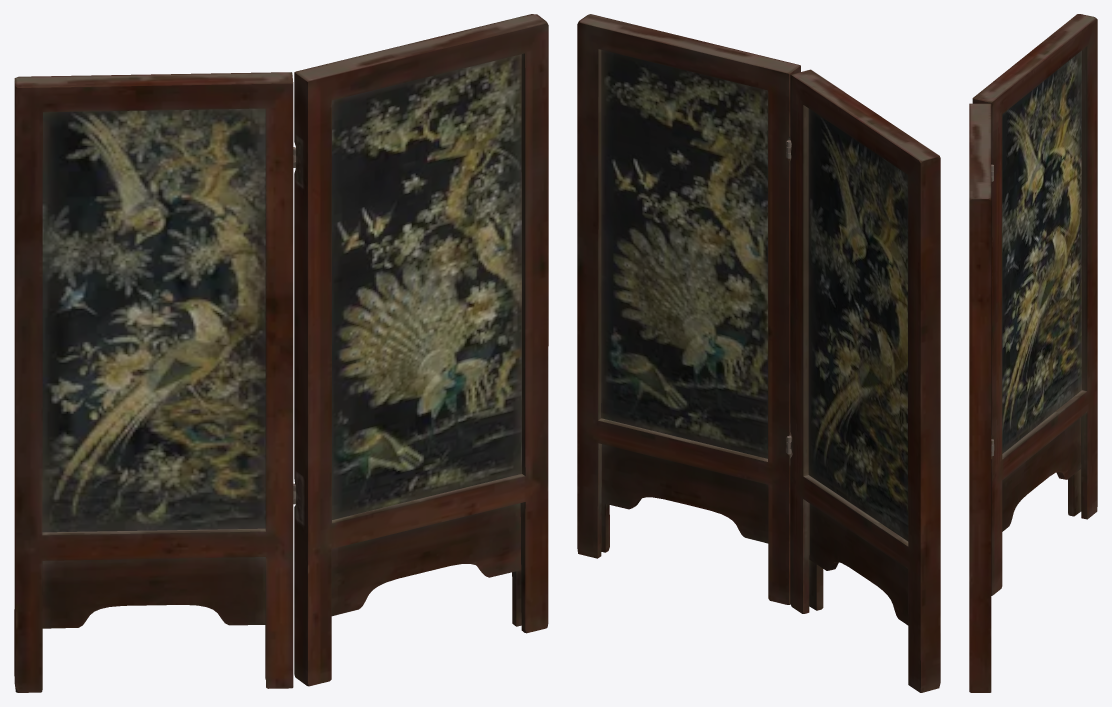
File: chinese_screen_panels.glb
3 views of the same model, side by side, from view 1: azimuth 30°, elevation 25°; view 2: azimuth 150°, elevation 25°; view 3: azimuth 270°, elevation 25° (orthographic). The views are drawn at different scales.
Parts seen in each view (by area): view 1: chinese_screen_panels_a; view 2: chinese_screen_panels_a; view 3: chinese_screen_panels_a.
Boxes of the visible parts, x1=… form: chinese_screen_panels_a: x1=14, y1=14, x2=548, y2=692; chinese_screen_panels_a: x1=577, y1=14, x2=940, y2=692; chinese_screen_panels_a: x1=969, y1=14, x2=1097, y2=692.
Bounding box in the file's own units: 1.29 × 1.6 × 0.3769.
1 material, 1 textured.
